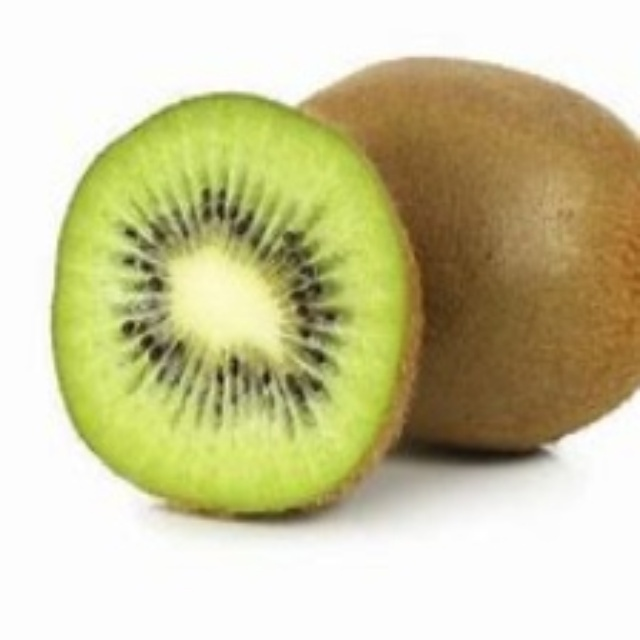kiwi: (50, 91, 415, 515), (287, 54, 639, 458)
